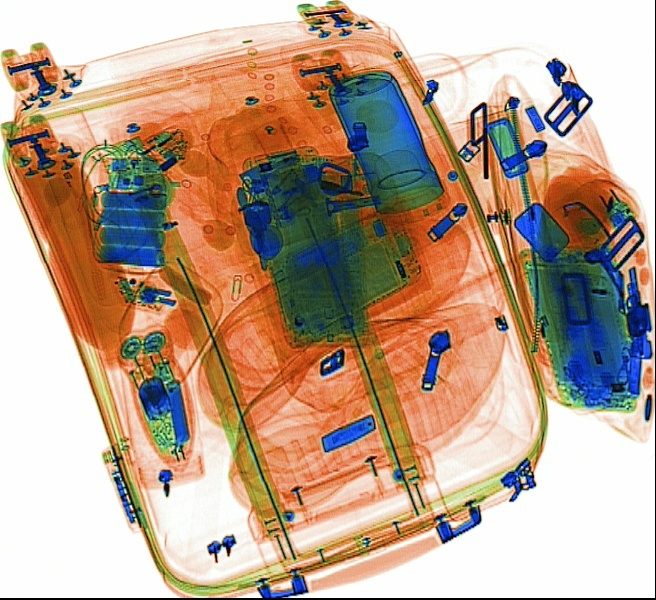powerbank: (88, 153, 172, 270)
